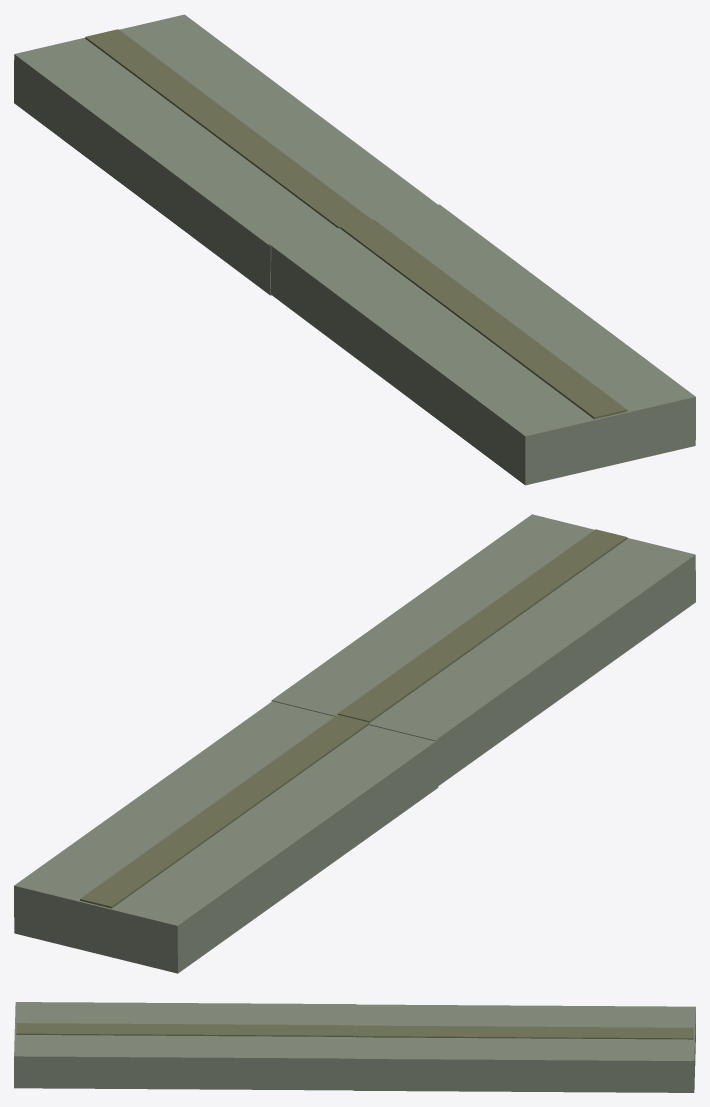
File: RoadSegmentLong.dae
3 views of the same model, one above another, from view 1: azimuth 30°, elevation 25°; view 2: azimuth 150°, elevation 25°; view 3: azimuth 270°, elevation 25° (orthographic). The views are drawn at different scales.
Parts seen in each view (by area): view 1: Cube_003, Cube_003_001; view 2: Cube_003_001, Cube_003; view 3: Cube_003, Cube_003_001.
Part boxes in pixels (box(x1,y1,x2,y2)): Cube_003: box(269, 204, 695, 485); Cube_003_001: box(14, 14, 437, 295); Cube_003_001: box(14, 701, 438, 973); Cube_003: box(271, 514, 695, 785); Cube_003: box(14, 1002, 357, 1090); Cube_003_001: box(353, 1004, 695, 1092).
Bounding box in the file's own units: 6.95 × 35 × 1.98.
